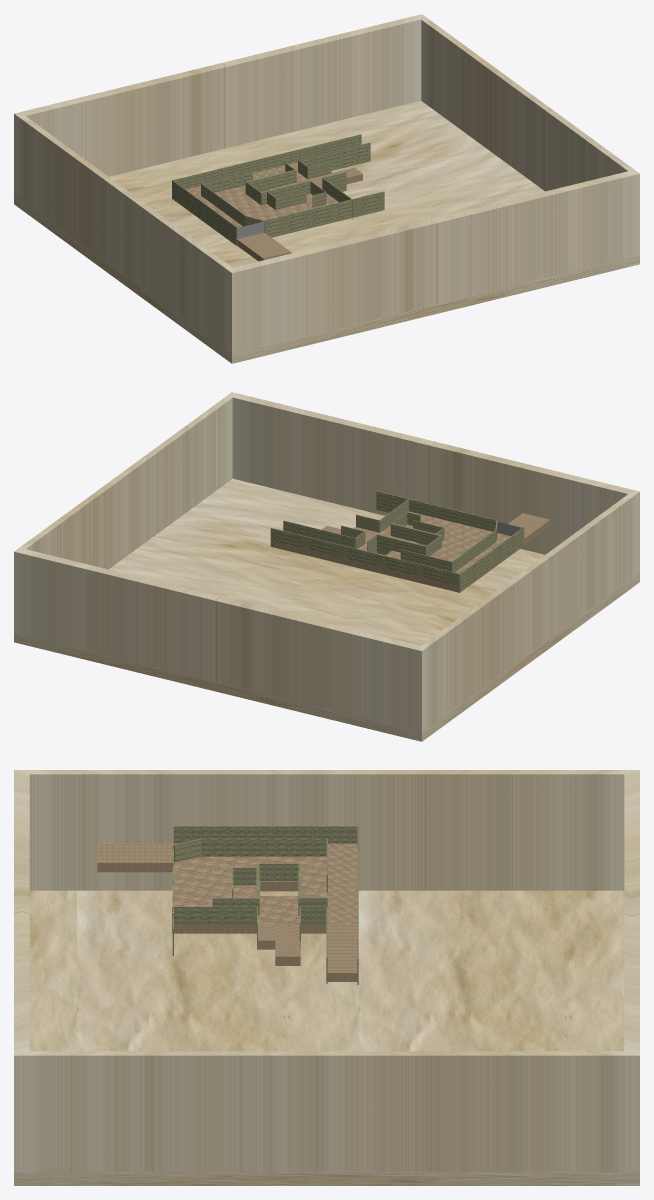
File: Stage3.fbx
The picture shows the model from 3 angles, top to bottom: view 1: azimuth 30°, elevation 25°; view 2: azimuth 150°, elevation 25°; view 3: azimuth 270°, elevation 25°; orthographic projection. The views are drawn at different scales.
Visible parts, largest first — view 1: Box001, Box003, Box017, Box018, Box016, Box019, Box009, Box006, Box008; view 2: Box001, Box003, Box018, Box017, Box016, Box019, Box009, Box011, Box006, Box008; view 3: Box001, Box003, Box016, Box006, Box020, Box010.
Boxes of the visible parts, x1=… form: Box001: x1=14, y1=14, x2=639, y2=363; Box003: x1=186, y1=162, x2=362, y2=261; Box017: x1=264, y1=191, x2=384, y2=237; Box018: x1=173, y1=134, x2=361, y2=189; Box016: x1=172, y1=180, x2=237, y2=245; Box019: x1=299, y1=142, x2=370, y2=170; Box009: x1=246, y1=169, x2=296, y2=191; Box006: x1=201, y1=183, x2=245, y2=226; Box008: x1=202, y1=171, x2=252, y2=192; Box001: x1=14, y1=392, x2=639, y2=741; Box003: x1=274, y1=511, x2=550, y2=592; Box018: x1=270, y1=528, x2=458, y2=585; Box017: x1=376, y1=491, x2=496, y2=531; Box016: x1=459, y1=527, x2=524, y2=592; Box019: x1=283, y1=520, x2=354, y2=548; Box009: x1=376, y1=534, x2=425, y2=555; Box011: x1=390, y1=523, x2=440, y2=544; Box006: x1=451, y1=529, x2=496, y2=572; Box008: x1=400, y1=549, x2=451, y2=571; Box001: x1=14, y1=770, x2=639, y2=1185; Box003: x1=97, y1=843, x2=357, y2=981; Box016: x1=173, y1=826, x2=358, y2=852; Box006: x1=201, y1=838, x2=327, y2=856; Box020: x1=172, y1=906, x2=256, y2=933; Box010: x1=256, y1=863, x2=301, y2=881.
Bounding box in the file's own units: 30567 × 28298 × 6493.
